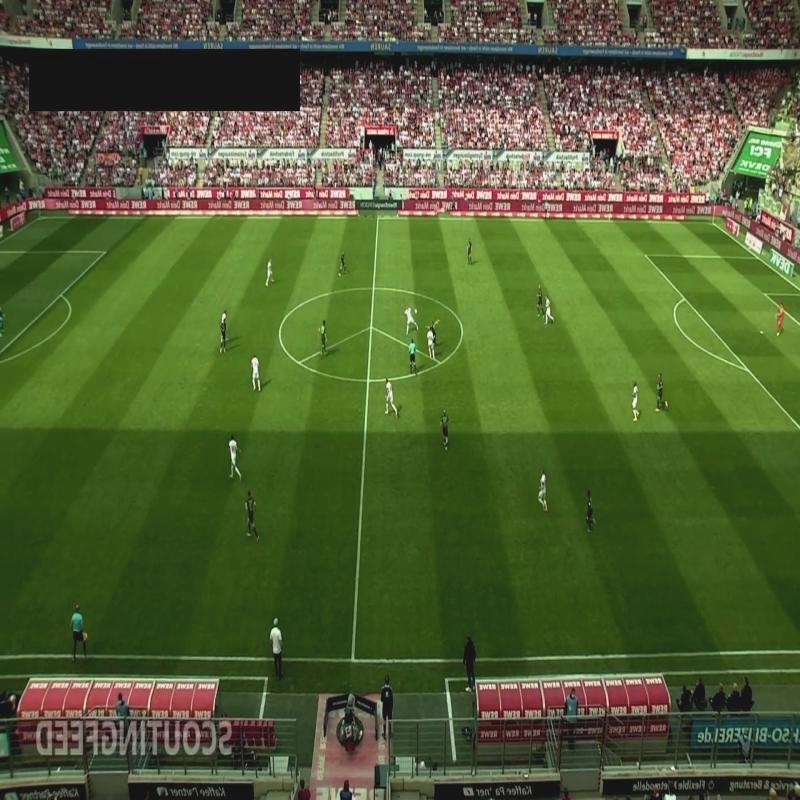1: (32, 210, 48, 226), (706, 216, 720, 230)
10: (678, 291, 692, 307), (53, 288, 67, 302)
11: (740, 362, 754, 376)
13: (372, 210, 386, 224)
14: (367, 280, 381, 294)
15: (362, 372, 376, 386)
16: (344, 650, 360, 668)
2: (751, 251, 765, 265)
7: (758, 288, 772, 301)
9: (637, 248, 654, 264), (98, 246, 112, 260)
c: (274, 326, 288, 340), (456, 324, 470, 338)
